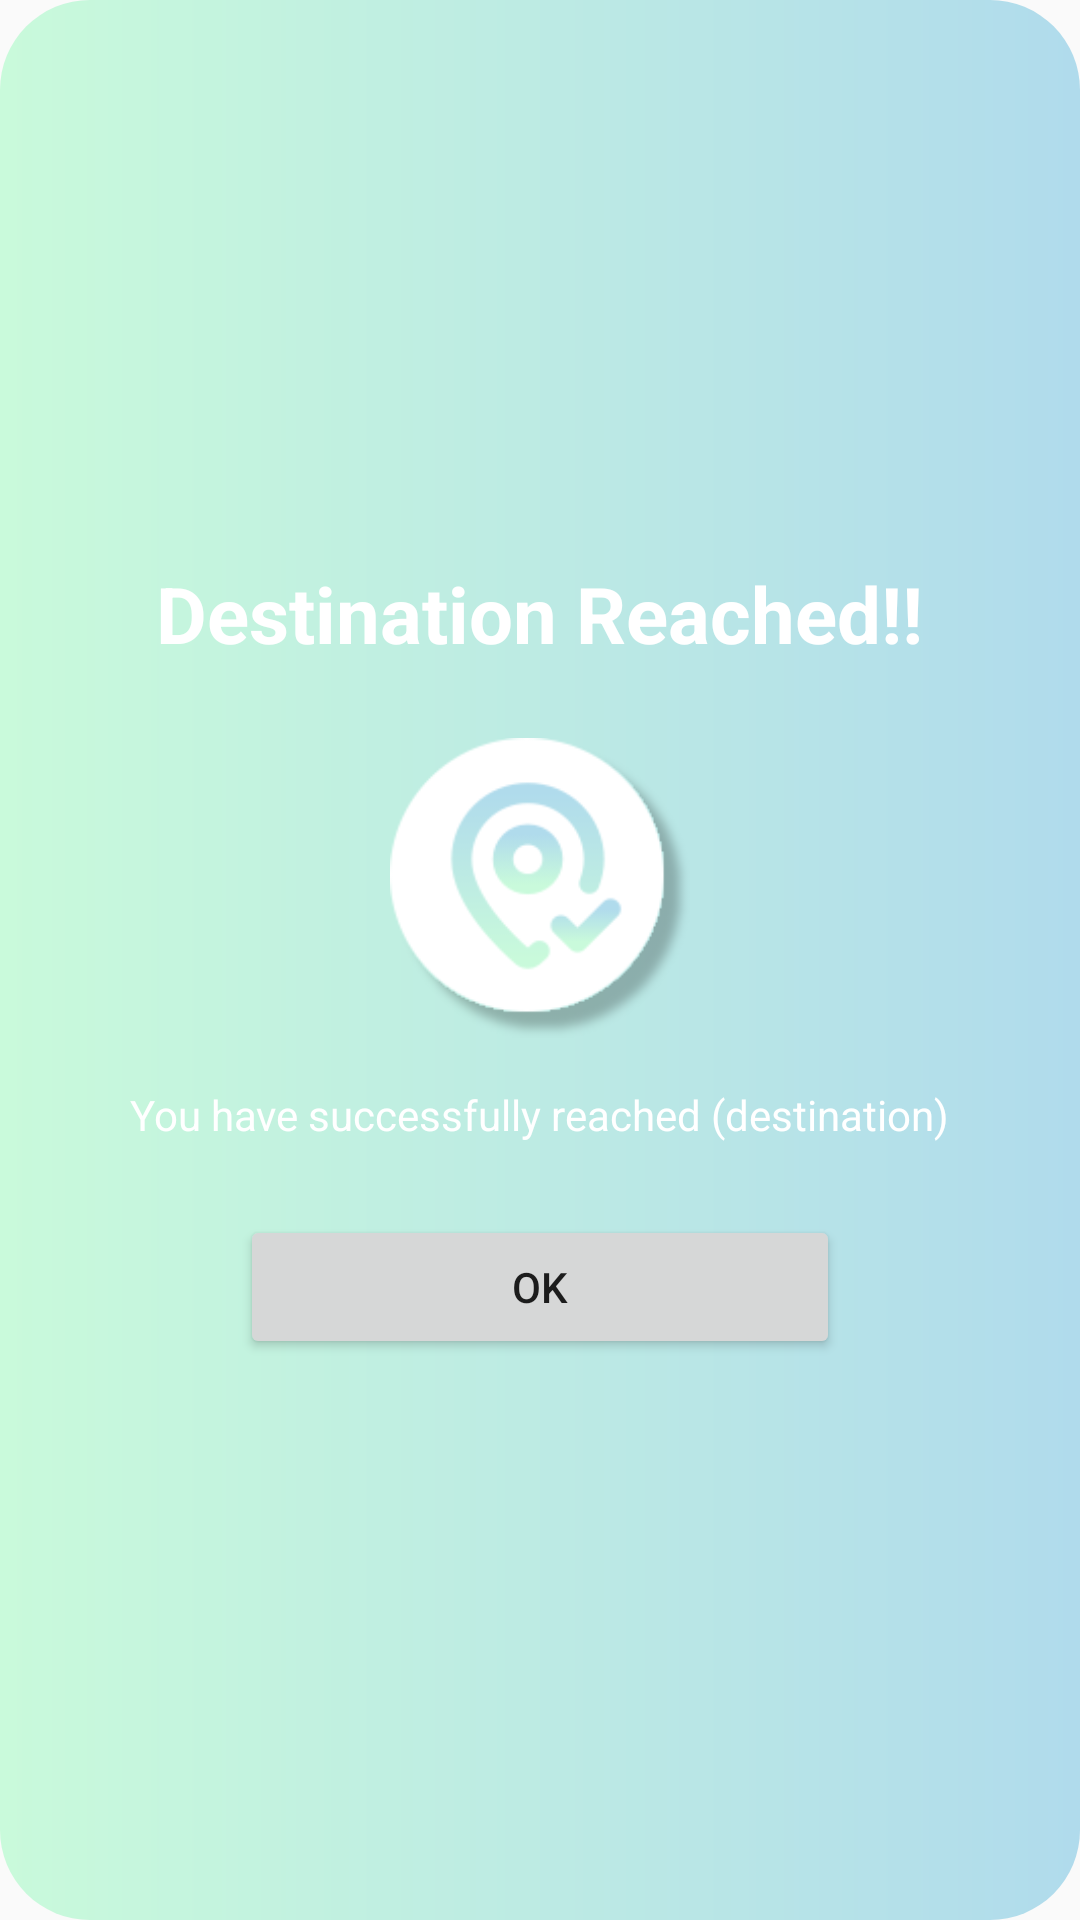

Named icons in this screenshot (1080px×1920px) and their bounding boxes, (x1, y1, x2, y2):
location: (390, 738, 682, 1029)
